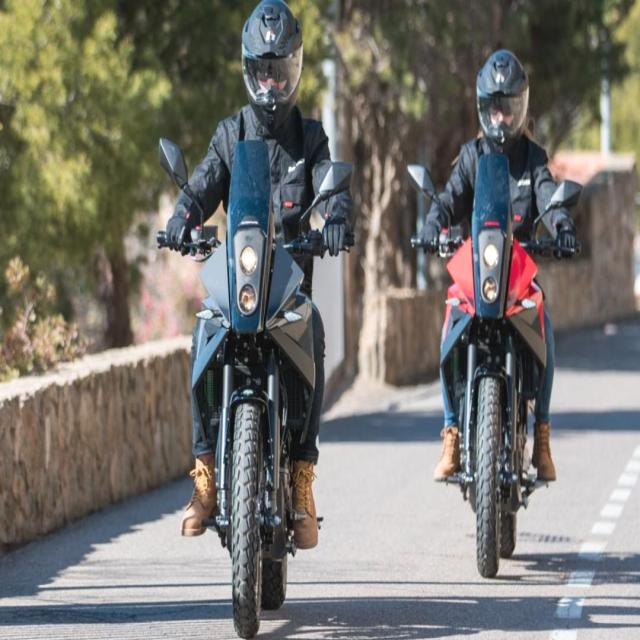MOTORCYCLE: (196, 162, 322, 640), (445, 230, 541, 572)
